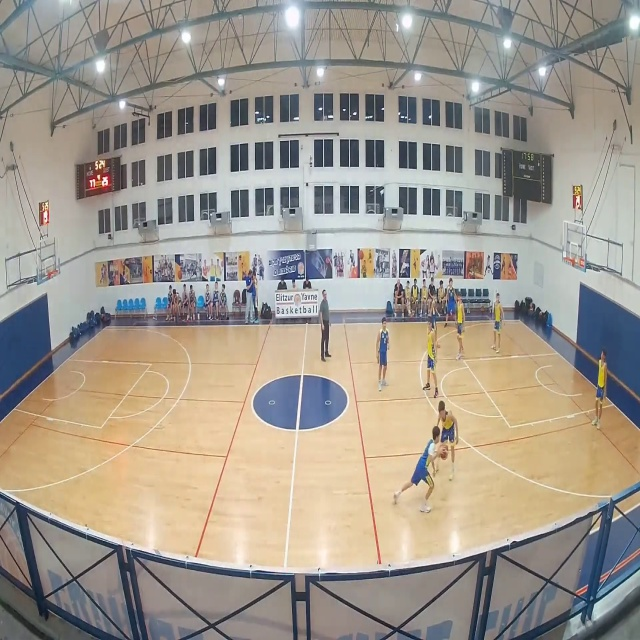Basketball: (438, 444, 449, 460)
